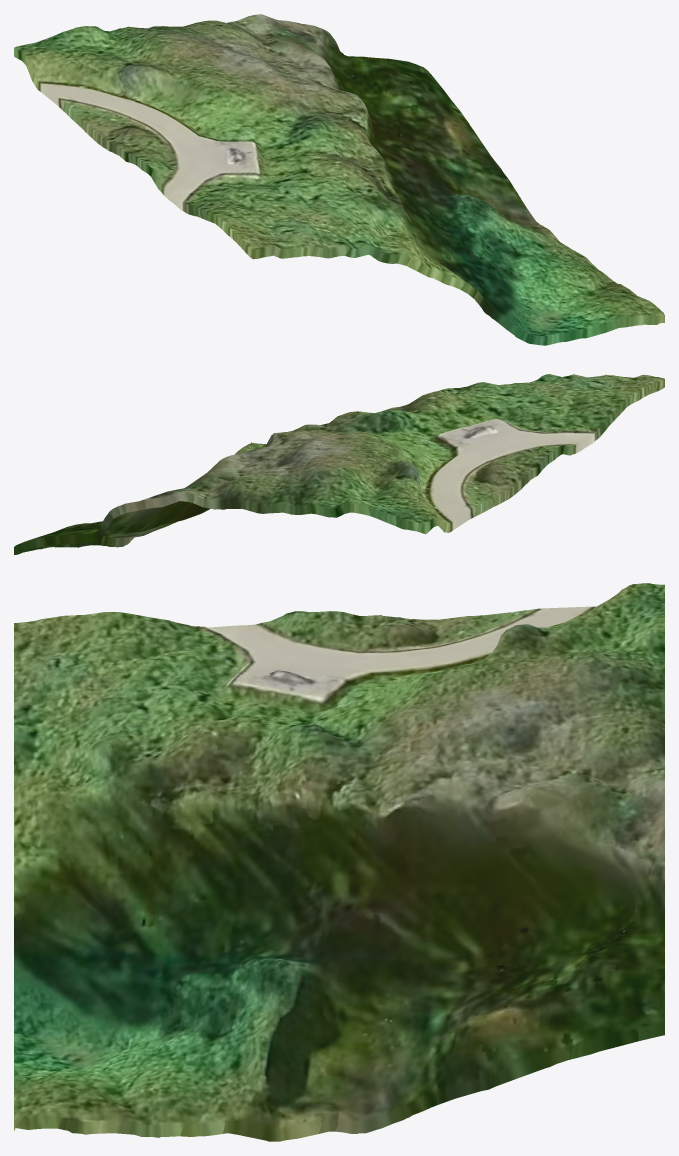
Rendered from z20-167559-405172-h0-yup-uvflip-v3-world.glb.
The picture shows the model from 3 angles, top to bottom: view 1: azimuth 30°, elevation 25°; view 2: azimuth 150°, elevation 25°; view 3: azimuth 270°, elevation 25°; orthographic projection. The views are drawn at different scales.
Bounding box in the file's own units: 30.16 × 14.92 × 30.32.
Materials: 1 (1 with a texture image).
